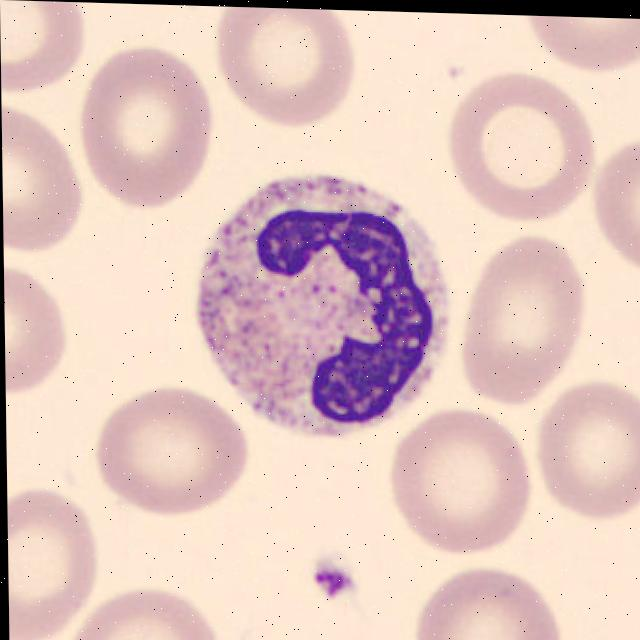neutrophil: (192, 153, 458, 447)
platelets: (302, 552, 356, 604)
rbc: (91, 54, 219, 206), (463, 243, 582, 405), (458, 85, 591, 219), (396, 416, 519, 546), (104, 396, 241, 512), (230, 7, 360, 119), (7, 484, 85, 640), (539, 399, 640, 519), (1, 101, 76, 258), (409, 566, 565, 640), (67, 590, 235, 640), (0, 0, 91, 91), (4, 266, 62, 403), (591, 145, 640, 270), (524, 16, 640, 66)
